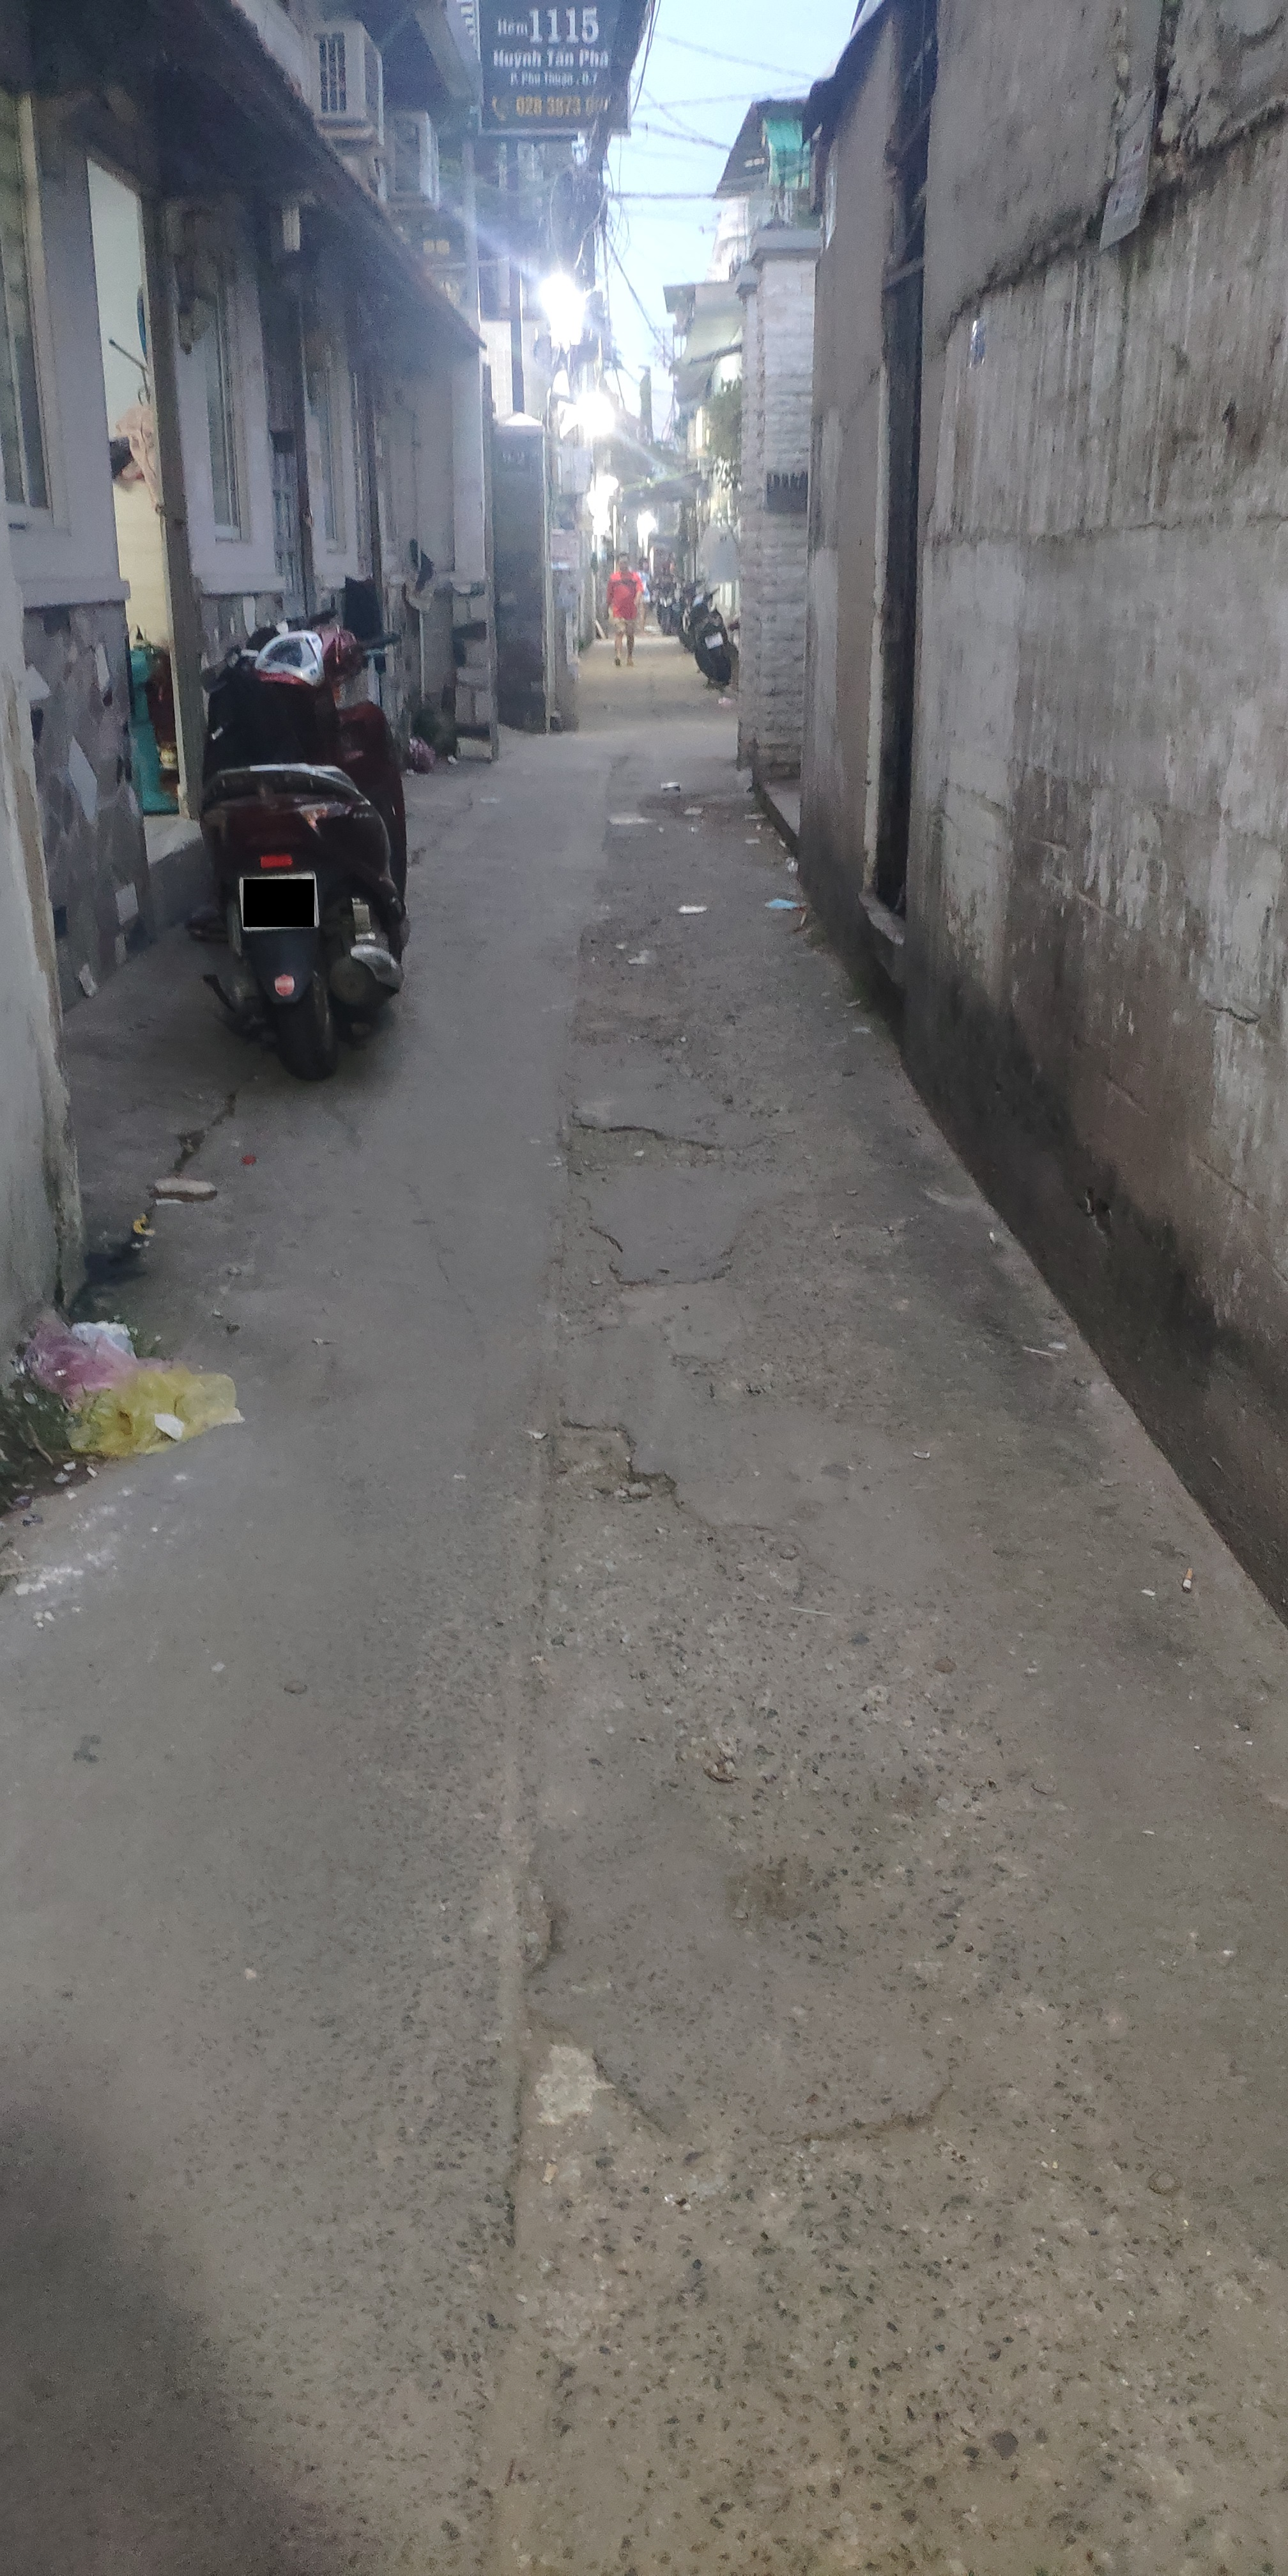hole: (521, 1991, 1288, 2576), (555, 1111, 738, 1186), (537, 1421, 680, 1510), (575, 913, 637, 961)
